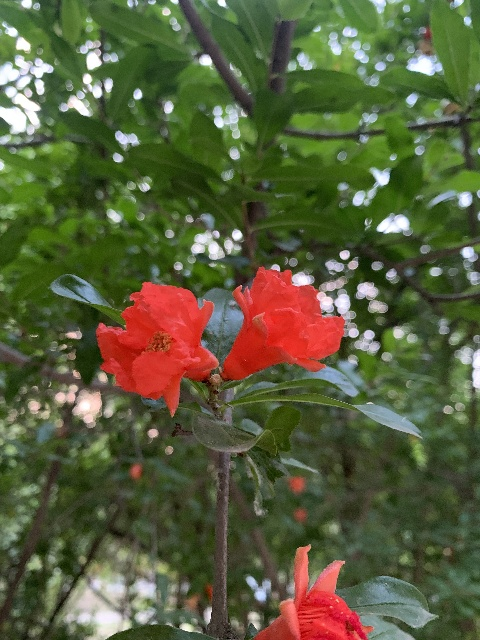flower: (95, 282, 218, 417), (223, 266, 343, 380), (249, 544, 376, 640)
